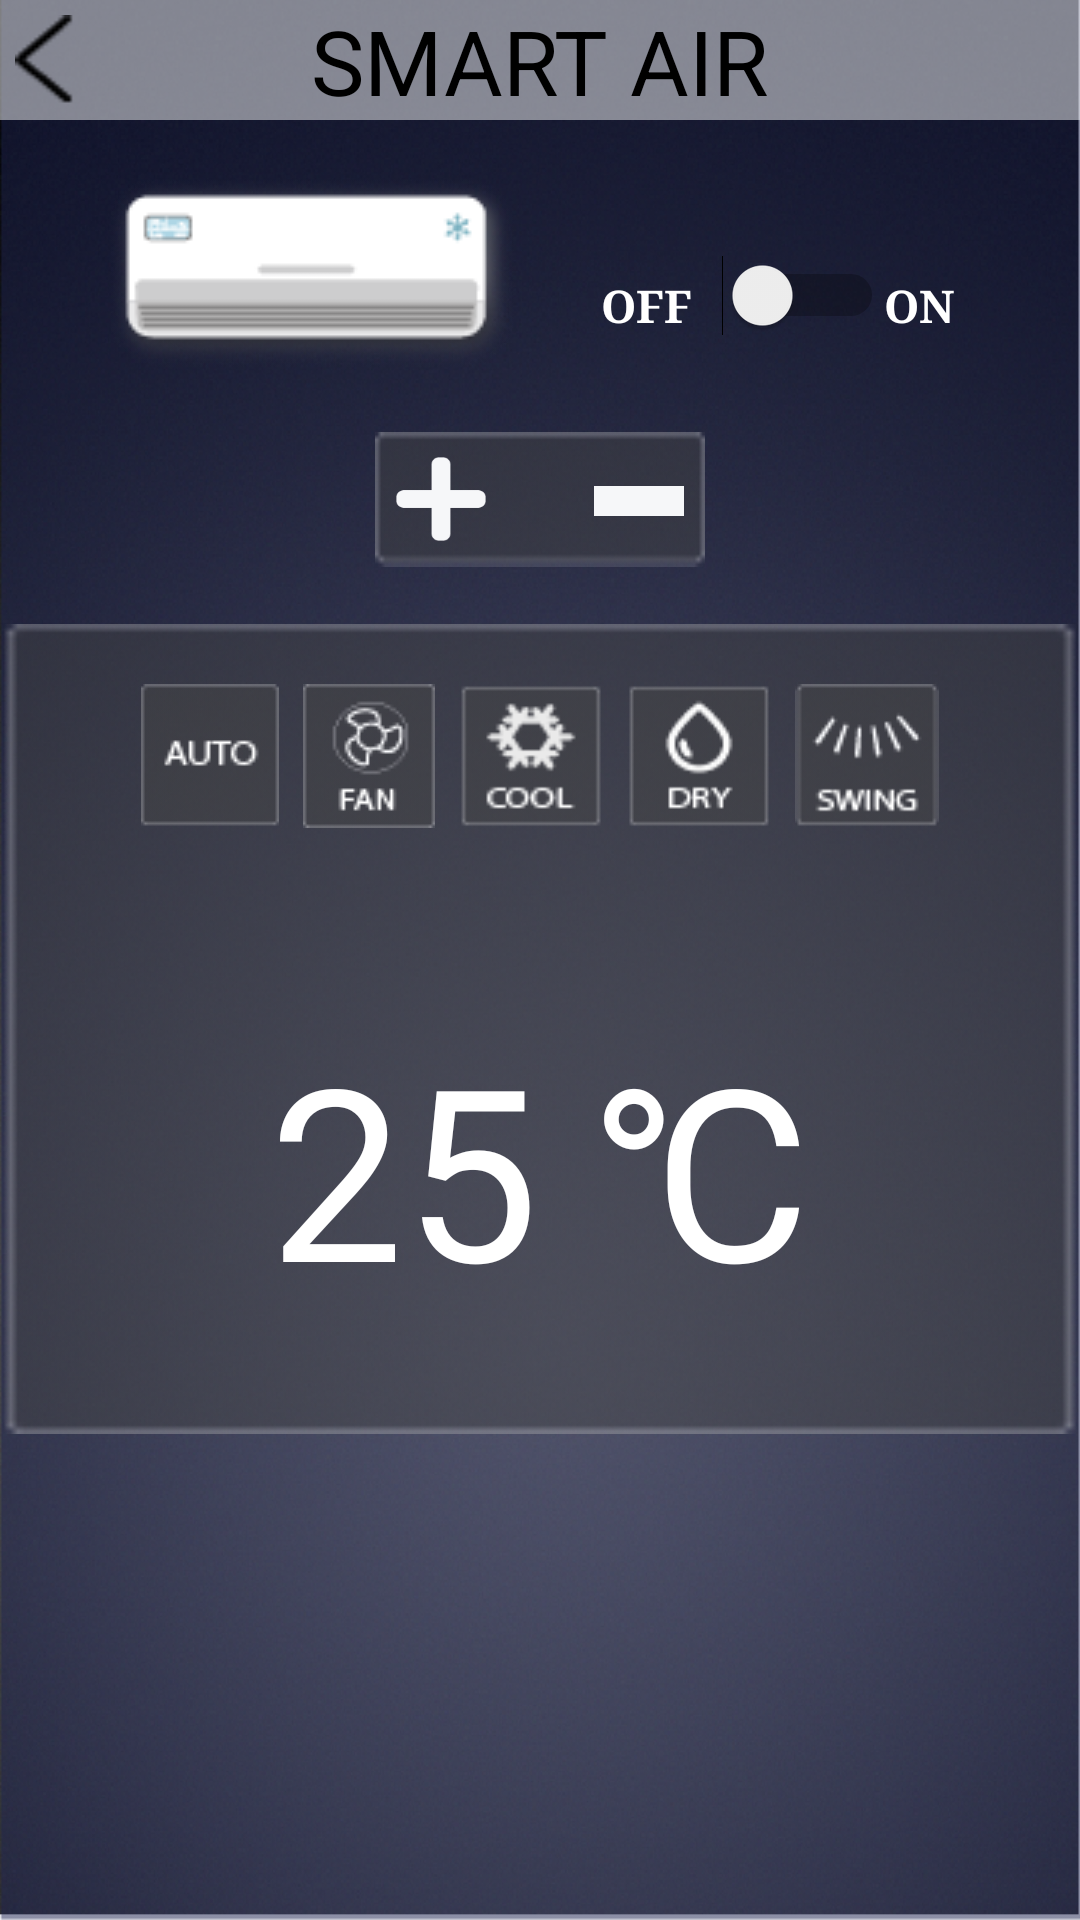

Named icons in this screenshot (1080 × 1920) and their bounding boxes, [x1,y1,x2,y2]:
plus: [396,457,486,541]
